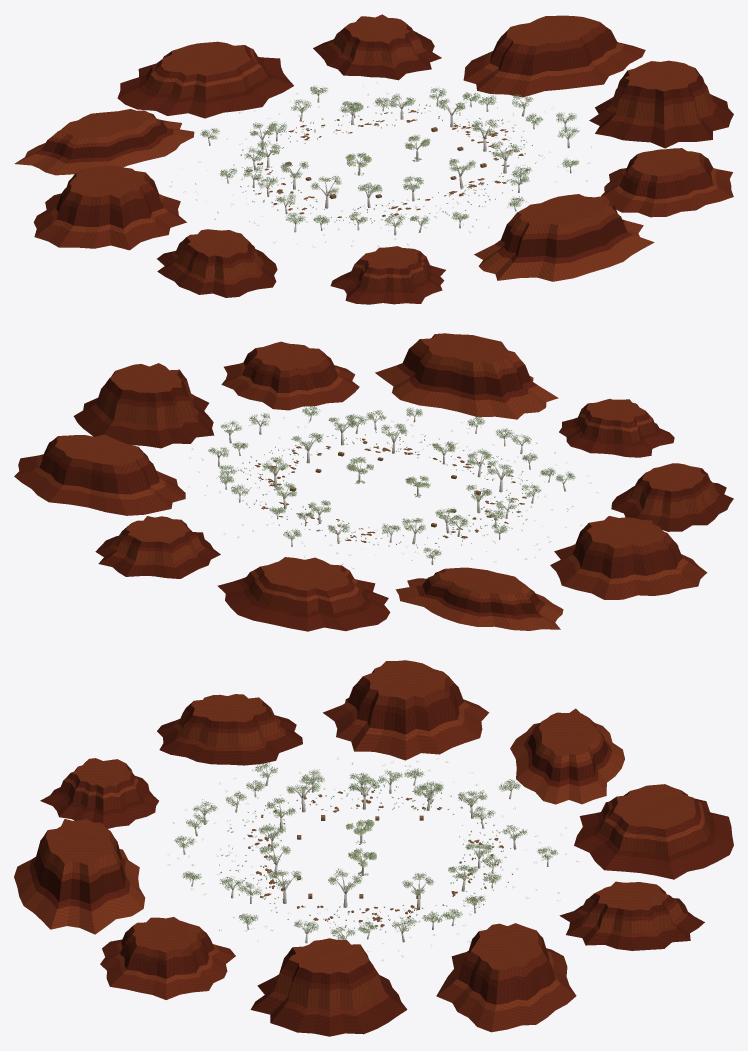
The model's file is smoko_landscape.glb.
3 renders of one model, top to bottom at view 1: azimuth 30°, elevation 25°; view 2: azimuth 150°, elevation 25°; view 3: azimuth 270°, elevation 25°, orthographic. The views are drawn at different scales.
Visible parts, largest first — view 1: Gums scrub and distant mesas.014; view 2: Gums scrub and distant mesas.014; view 3: Gums scrub and distant mesas.014.
Part boxes in pixels (x1,y1,x2,y2): Gums scrub and distant mesas.014: (14, 14, 733, 304); Gums scrub and distant mesas.014: (14, 333, 733, 631); Gums scrub and distant mesas.014: (14, 660, 733, 1036).
Size of the model in its own units: 264 by 16.16 by 226.
12 materials, 7 textured.
